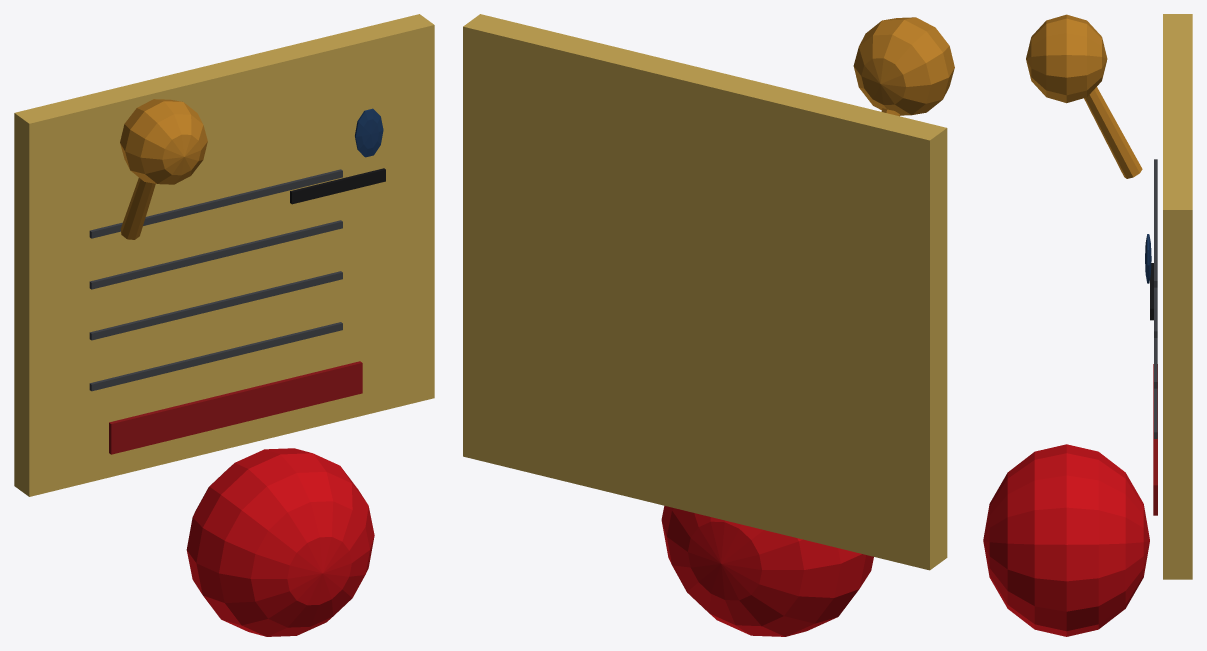
File: park_03.obj
3 renders of one model, left to right at view 1: azimuth 30°, elevation 25°; view 2: azimuth 150°, elevation 25°; view 3: azimuth 270°, elevation 25°, orthographic. The views are drawn at different scales.
Parts seen in each view (by area): view 1: LostTag, ClownNose, TagHeader, Bell, FormLine0, FormLine1, FormLine2, FormLine3, SmileMark, BellLoop, TearMark; view 2: LostTag, ClownNose, Bell; view 3: ClownNose, LostTag, Bell, BellLoop, TagHeader, FormLine3.
Boxes of the visible parts, x1=… form: LostTag: x1=14, y1=14, x2=434, y2=496; ClownNose: x1=186, y1=448, x2=374, y2=636; TagHeader: x1=109, y1=361, x2=362, y2=454; Bell: x1=120, y1=99, x2=207, y2=184; FormLine0: x1=89, y1=322, x2=342, y2=391; FormLine1: x1=89, y1=271, x2=342, y2=340; FormLine2: x1=89, y1=220, x2=342, y2=289; FormLine3: x1=89, y1=169, x2=342, y2=238; SmileMark: x1=290, y1=168, x2=385, y2=204; BellLoop: x1=120, y1=178, x2=155, y2=239; TearMark: x1=355, y1=108, x2=383, y2=157; LostTag: x1=463, y1=14, x2=947, y2=570; ClownNose: x1=661, y1=505, x2=873, y2=636; Bell: x1=853, y1=17, x2=954, y2=115; ClownNose: x1=983, y1=444, x2=1149, y2=636; LostTag: x1=1163, y1=14, x2=1192, y2=579; Bell: x1=1026, y1=14, x2=1107, y2=103; BellLoop: x1=1084, y1=87, x2=1142, y2=178; TagHeader: x1=1153, y1=364, x2=1157, y2=515; FormLine3: x1=1154, y1=159, x2=1157, y2=287.
Size of the model in its own units: 2.5 by 3.29 by 1.13.
